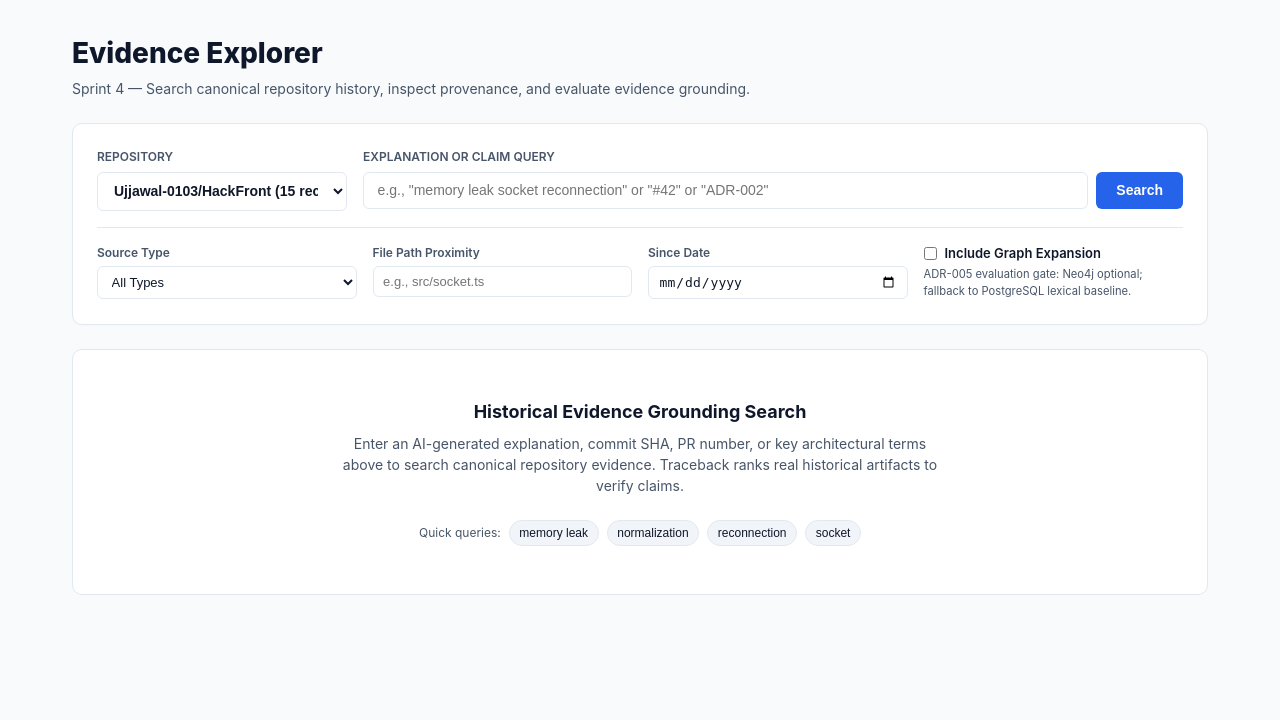
Test case: EvidencePage (Sprint 4) › submits search query and renders result cards with score and explanation
This screenshot has width=1280, height=720.
Replace the text in the field with placeholder "memory leak socket reconnection" with "socket leak" at coordinates (726, 190), box [363,172,1088,209]
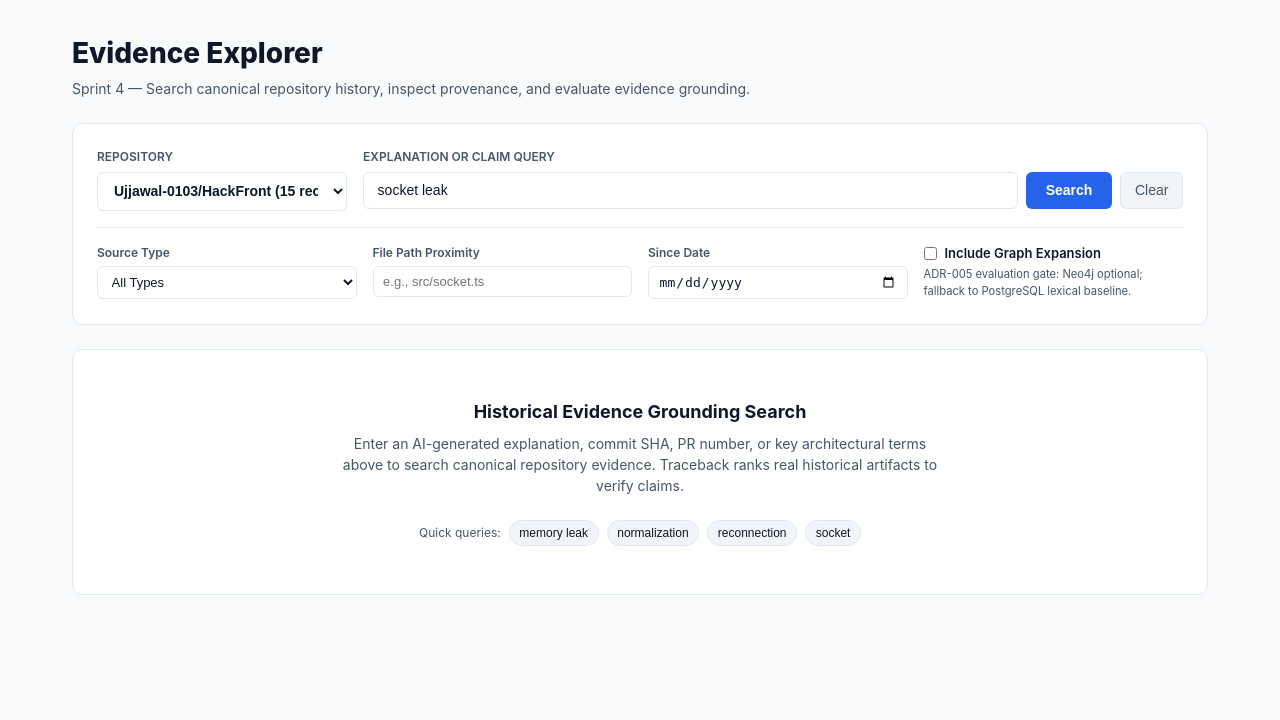
Click the button "Search" at coordinates (1069, 190), box [1026,172,1112,209]
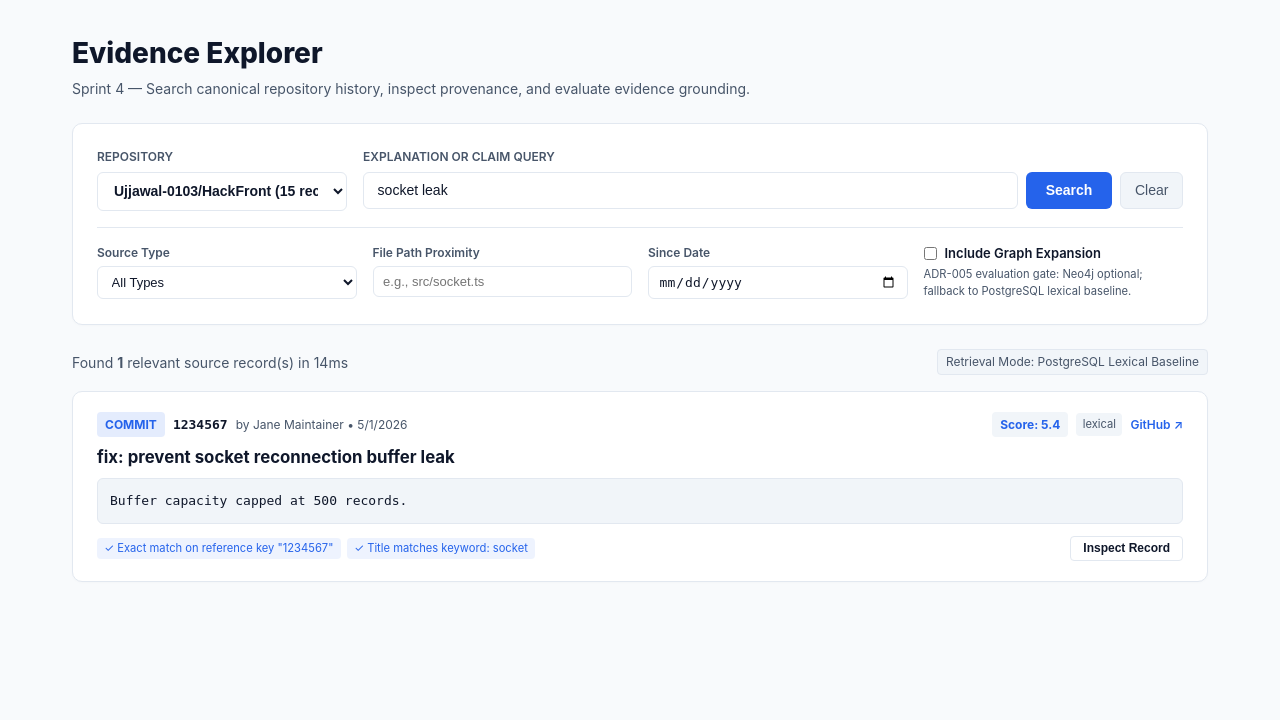
Expected: the heading "fix: prevent socket reconnection buffer leak" is shown, [97,447,455,467]
Expected: the text "Score: 5.4" is shown, [992,412,1068,437]
Expected: the text "✓ Title matches keyword: socket" is shown, [347,538,535,559]
